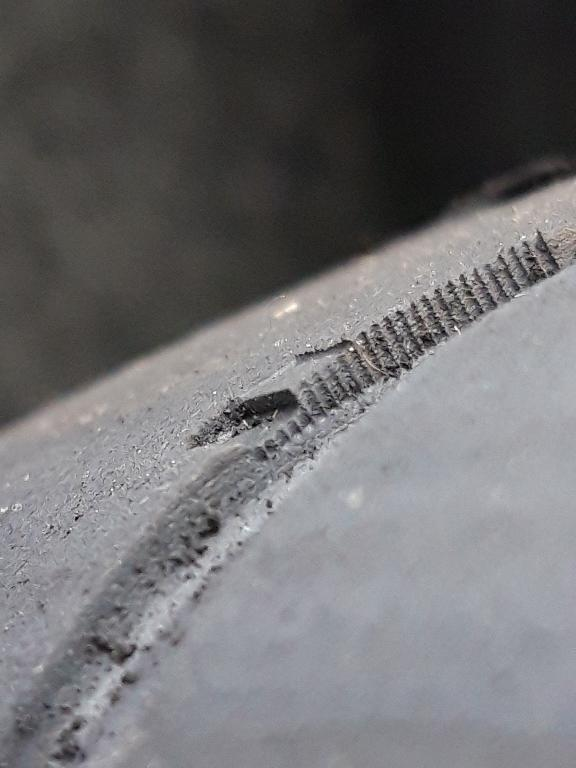temoin:25: (175, 331, 378, 477)
